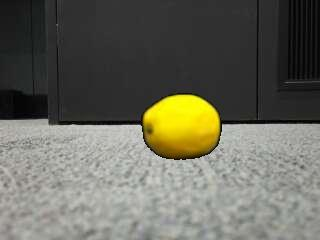lemon: (142, 95, 218, 160)
